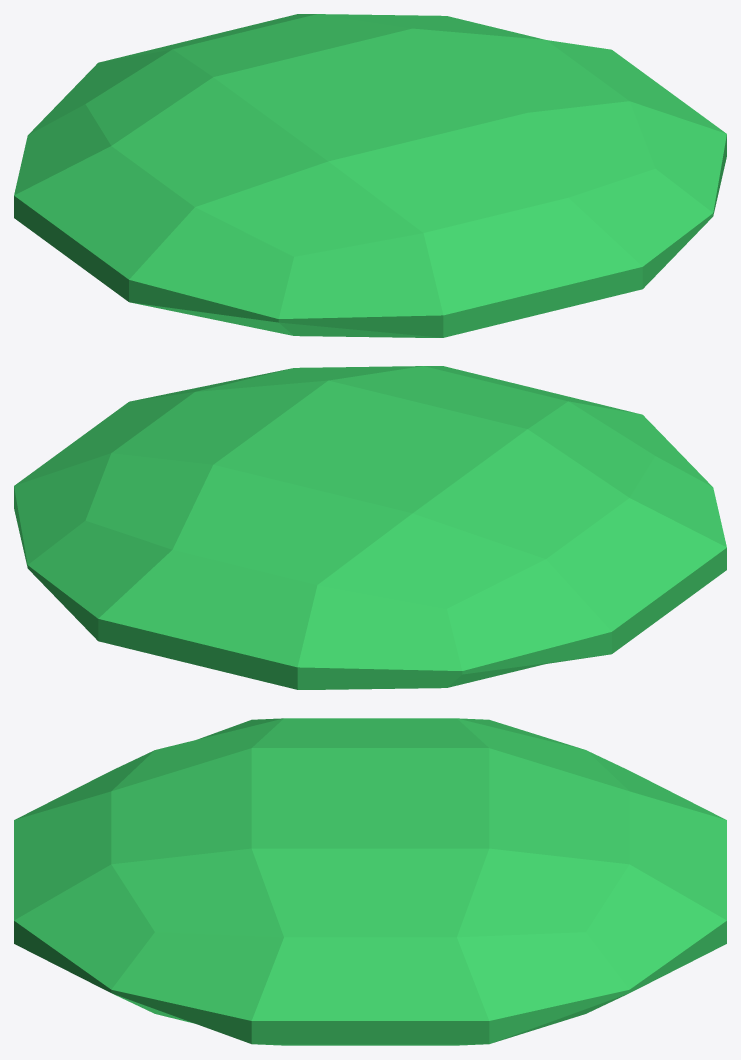
File: scout.dae
3 renders of one model, top to bottom at view 1: azimuth 30°, elevation 25°; view 2: azimuth 150°, elevation 25°; view 3: azimuth 270°, elevation 25°, orthographic. The views are drawn at different scales.
Visible parts, largest first — view 1: Cube; view 2: Cube; view 3: Cube.
Part boxes in pixels (x1,y1,x2,y2): Cube: [14, 14, 726, 337]; Cube: [14, 366, 726, 689]; Cube: [14, 718, 726, 1045].
Size of the model in its own units: 2.75 by 2.75 by 0.7123.
